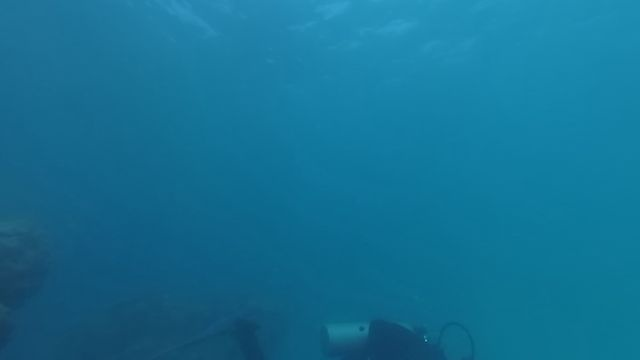Diver: (148, 300, 493, 356), (165, 310, 263, 352)
